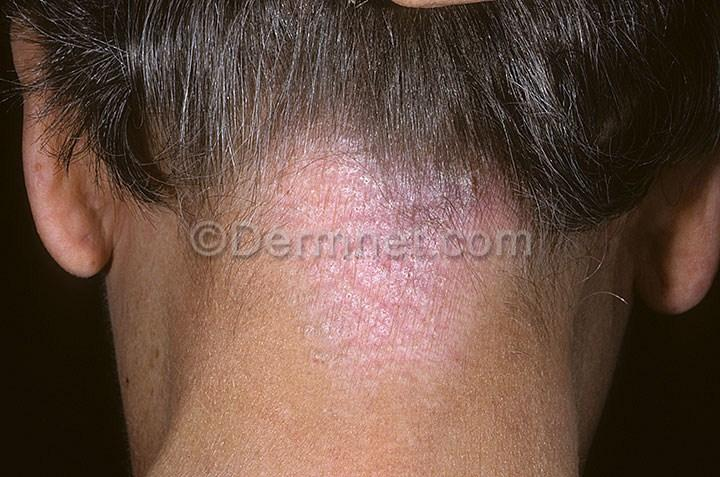Eczema: (302, 291, 444, 407), (286, 133, 393, 225), (402, 170, 495, 253), (262, 222, 345, 309), (412, 250, 484, 323), (334, 226, 398, 298), (225, 171, 291, 240)
